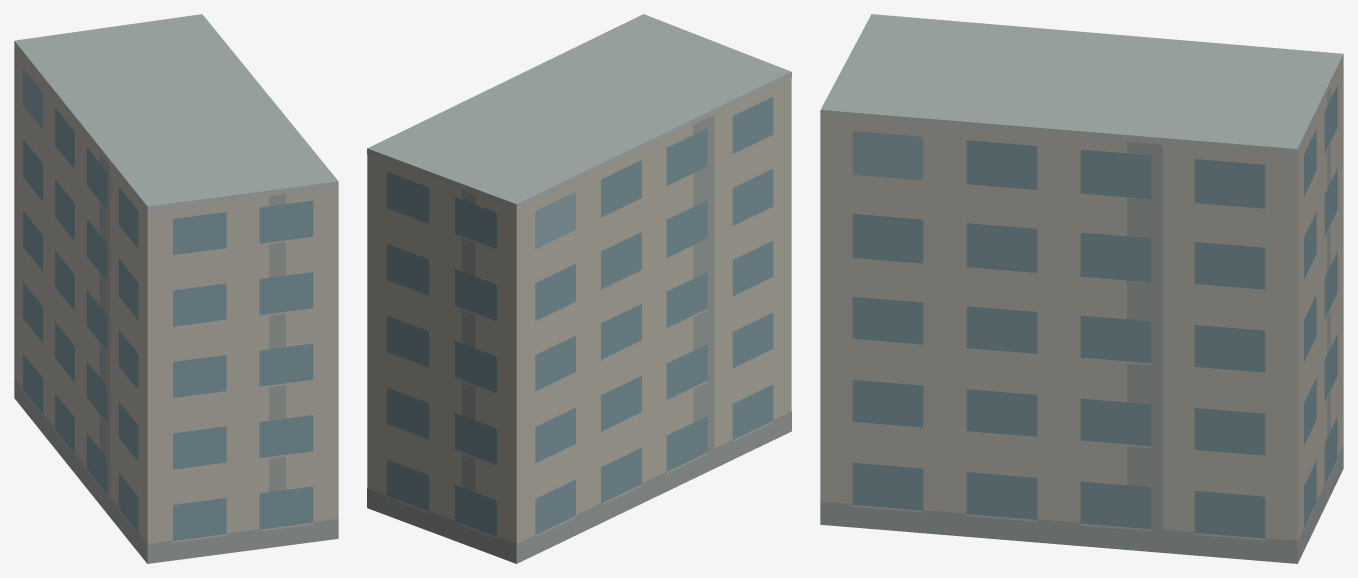
The model's file is survey-upis-32810034.glb.
The picture shows the model from 3 angles, left to right: view 1: azimuth 30°, elevation 25°; view 2: azimuth 150°, elevation 25°; view 3: azimuth 270°, elevation 25°; orthographic projection. The views are drawn at different scales.
Parts seen in each view (by area): view 1: survey-upis-32810034.tmp; view 2: survey-upis-32810034.tmp; view 3: survey-upis-32810034.tmp.
Boxes of the visible parts, left/top/right/bottom form: survey-upis-32810034.tmp: left=14, top=14, right=338, bottom=563; survey-upis-32810034.tmp: left=367, top=14, right=791, bottom=563; survey-upis-32810034.tmp: left=820, top=14, right=1343, bottom=563.
Size of the model in its own units: 10.51 by 15.04 by 17.2.
